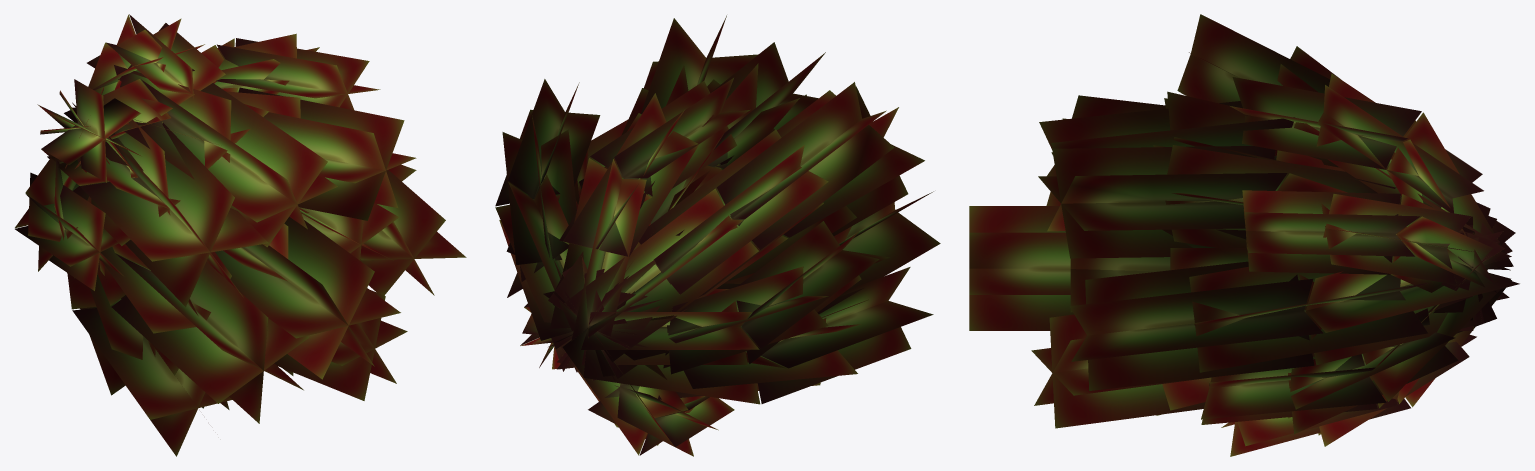
Rendered from Pl_Bush.glb.
3 views of the same model, side by side, from view 1: azimuth 30°, elevation 25°; view 2: azimuth 150°, elevation 25°; view 3: azimuth 270°, elevation 25° (orthographic). The views are drawn at different scales.
Visible parts, largest first — view 1: bush; view 2: bush; view 3: bush.
Boxes of the visible parts, bbox=[...] form: bush: bbox=[15, 14, 466, 456]; bush: bbox=[495, 15, 940, 456]; bush: bbox=[969, 14, 1519, 456].
Bounding box in the file's own units: 1.31 × 1.3 × 1.75.
Materials: 1 (1 with a texture image).
